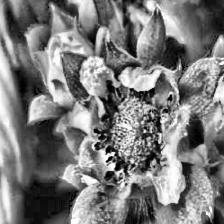Blossom Blight: (90, 79, 183, 190)
